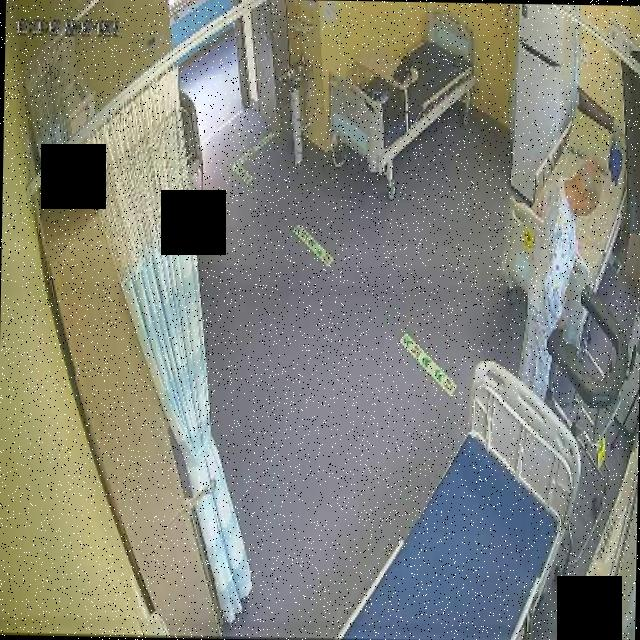bed: (340, 355, 585, 640), (500, 105, 630, 332), (326, 8, 474, 174)
patient: (514, 160, 600, 408)
